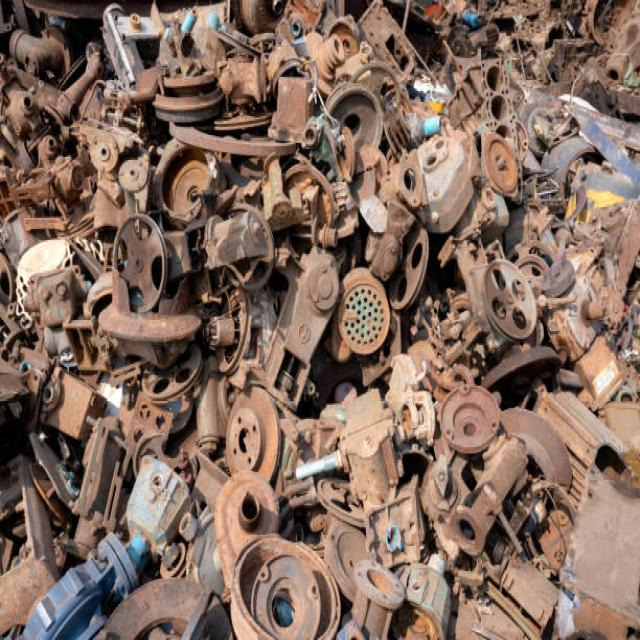metal: (134, 39, 474, 217), (218, 486, 332, 640), (448, 438, 530, 557), (321, 281, 396, 362), (104, 216, 172, 304), (440, 381, 503, 458), (295, 262, 330, 392)
